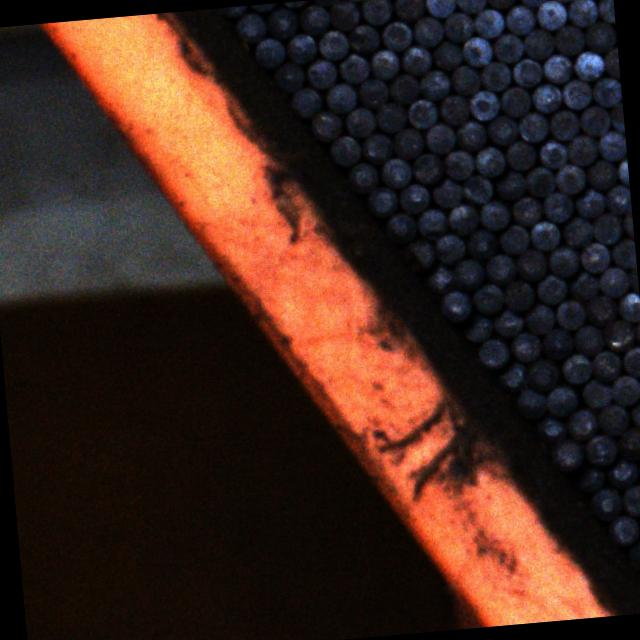tool: (585, 484, 622, 522), (545, 436, 584, 472), (418, 257, 454, 295), (342, 159, 378, 196), (321, 80, 358, 116), (492, 358, 528, 394), (570, 46, 606, 82), (437, 287, 472, 323), (326, 133, 362, 168), (526, 218, 562, 253), (546, 242, 582, 277), (538, 326, 575, 360), (590, 208, 624, 245), (232, 7, 266, 44), (604, 513, 640, 547), (582, 433, 618, 467), (506, 330, 542, 364), (400, 236, 436, 270), (454, 116, 488, 152), (270, 59, 304, 95), (294, 2, 330, 36), (512, 386, 547, 420), (524, 356, 558, 391), (474, 335, 508, 370), (600, 317, 634, 352), (583, 292, 618, 326), (364, 184, 399, 218), (503, 137, 538, 171), (497, 84, 532, 118), (335, 50, 370, 84), (397, 42, 432, 76), (263, 5, 298, 39), (308, 109, 344, 142), (595, 402, 629, 436), (588, 348, 622, 382), (552, 298, 586, 332), (382, 210, 416, 244), (422, 120, 456, 154), (378, 154, 412, 188), (496, 222, 530, 256), (514, 246, 548, 280), (596, 264, 630, 298), (342, 105, 376, 139), (466, 88, 500, 122), (530, 80, 564, 114), (551, 22, 585, 56), (283, 30, 317, 64), (378, 19, 412, 53), (502, 2, 536, 36), (556, 351, 591, 384), (458, 309, 493, 342), (428, 175, 463, 208), (446, 202, 481, 235), (463, 227, 498, 260), (251, 36, 286, 69), (500, 278, 536, 310), (478, 58, 510, 94), (564, 407, 597, 441), (544, 384, 577, 418), (489, 305, 523, 338), (520, 300, 554, 333), (358, 130, 392, 163), (390, 125, 424, 158), (484, 112, 518, 145), (516, 108, 550, 141), (547, 106, 580, 140), (565, 131, 599, 164), (461, 171, 494, 205), (571, 184, 604, 218), (432, 231, 465, 265), (287, 85, 321, 118), (576, 104, 611, 136), (416, 68, 451, 100), (303, 56, 338, 88), (472, 5, 504, 40), (411, 150, 444, 183), (552, 162, 585, 195), (509, 193, 542, 226), (447, 63, 480, 96), (441, 10, 474, 43), (572, 461, 606, 493), (605, 456, 639, 488), (532, 410, 566, 442), (578, 376, 612, 408), (608, 372, 640, 406), (472, 144, 506, 176), (535, 136, 567, 170), (396, 181, 430, 213), (493, 166, 525, 200), (565, 268, 599, 300), (584, 156, 616, 190), (428, 38, 462, 70), (582, 19, 616, 51), (409, 15, 443, 47), (572, 322, 604, 355), (522, 164, 554, 197), (542, 191, 574, 224), (560, 215, 592, 248), (483, 252, 516, 284), (578, 240, 610, 273), (470, 282, 503, 314), (534, 273, 567, 305), (596, 129, 628, 162), (405, 98, 438, 130), (509, 56, 542, 88), (459, 36, 492, 68), (316, 28, 348, 61), (346, 22, 379, 54), (533, 0, 567, 31), (442, 148, 474, 180), (478, 199, 510, 231), (453, 256, 485, 288), (374, 100, 406, 132), (356, 77, 388, 109), (386, 72, 418, 104), (540, 52, 572, 84), (522, 26, 554, 58), (491, 32, 525, 62), (417, 206, 448, 238), (436, 93, 468, 124), (561, 77, 592, 109), (368, 47, 399, 79), (327, 0, 359, 31), (602, 182, 632, 215), (356, 0, 393, 26), (590, 76, 622, 106), (608, 236, 636, 268), (614, 289, 640, 322), (616, 426, 640, 461), (565, 0, 597, 26), (389, 0, 425, 23), (620, 482, 640, 517), (620, 344, 640, 376), (607, 101, 625, 133), (602, 46, 620, 78), (423, 0, 454, 17), (625, 537, 640, 571), (626, 396, 640, 429), (450, 0, 485, 13), (596, 0, 615, 22), (484, 0, 515, 9), (516, 0, 548, 8), (635, 453, 640, 485)
